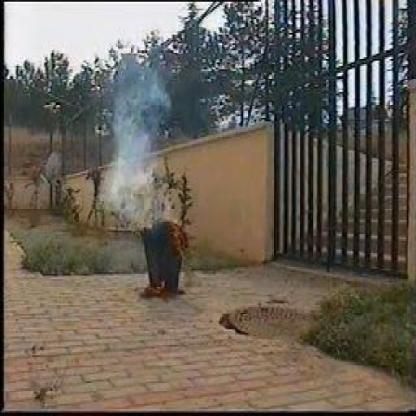-: (106, 66, 170, 211)
foggia-v2-map80-epoch100 - v1 4323: (168, 212, 192, 250)
